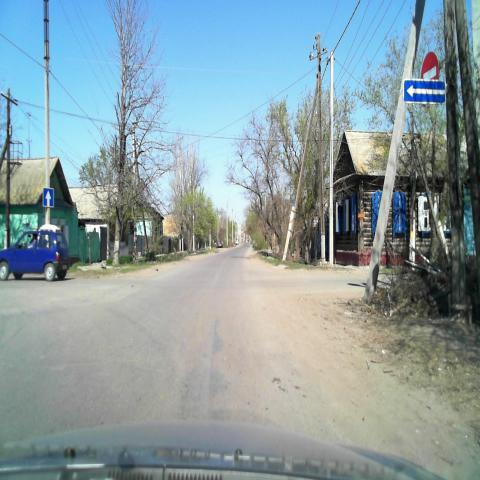5_7_2: (403, 78, 447, 103)
